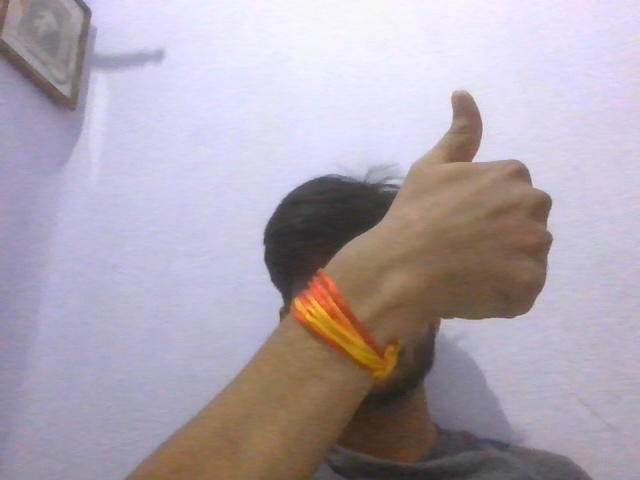thanks: (365, 89, 565, 351)
